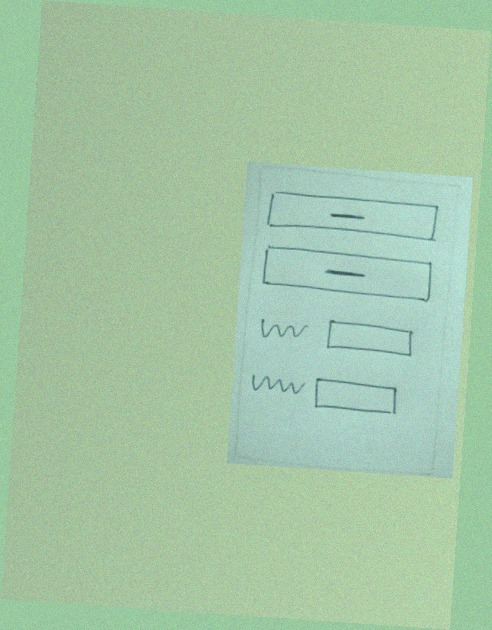button: (259, 241, 439, 304), (264, 186, 444, 246)
text: (255, 310, 312, 352), (249, 367, 307, 401)
text_input: (320, 312, 419, 366), (310, 370, 409, 423)
